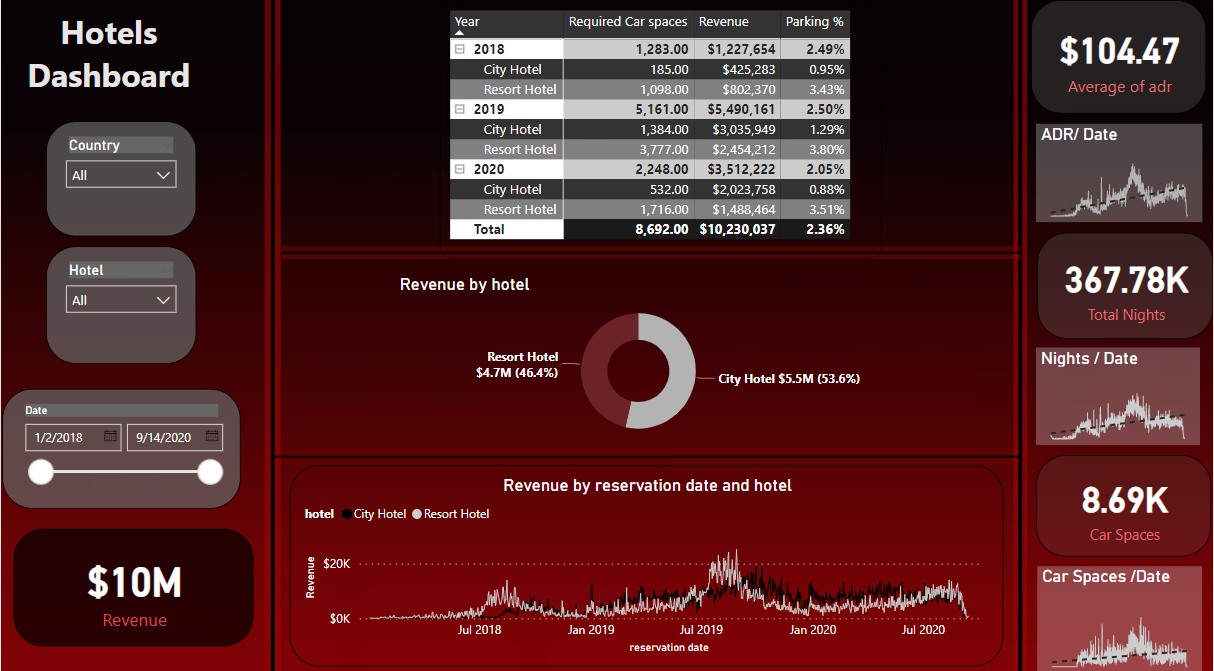

What the dashboard file says about the page in this screenshot:
{"tool":"powerbi","page":{"name":"Page 1","canvas":[1212,672],"ordinal":0},"visuals":[{"type":"card","fields":{"Values":["Sum(Query1.Revenue)"]},"box":[12.5,528.8,240,117.5],"z":0},{"type":"card","fields":{"Values":["Avg(Query1.adr)"]},"box":[1030,0,175,113.8],"z":1000},{"type":"card","fields":{"Values":["Query1.Measure"]},"box":[1036.2,232,176.2,106.2],"z":2000},{"type":"lineChart","fields":{"Category":["Query1.reservation_status_date"],"Y":["Sum(Query1.Revenue)"],"Series":["Query1.hotel"]},"box":[288.8,465,713.8,201.2],"z":3000},{"type":"donutChart","fields":{"Y":["Sum(Query1.Revenue)"],"Category":["Query1.hotel"]},"box":[393.8,273.8,487.5,175],"z":4000},{"type":"slicer","fields":{"Values":["Query1.hotel"]},"box":[45,246.2,150,117.5],"z":5000},{"type":"card","fields":{"Values":["Sum(Query1.required_car_parking_spaces)"]},"box":[1035,455.2,175,101.2],"z":6000},{"type":"lineChart","title":"ADR/ Date","fields":{"Category":["Query1.reservation_status_date"],"Y":["Sum(Query1.adr)"]},"box":[1035,123.5,166.2,98.8],"z":7000},{"type":"lineChart","title":"Nights / Date","fields":{"Category":["Query1.reservation_status_date"],"Y":["Query1.Measure"]},"box":[1035,348,163.8,97.5],"z":8000},{"type":"lineChart","title":"Car Spaces /Date","fields":{"Category":["Query1.reservation_status_date"],"Y":["Sum(Query1.required_car_parking_spaces)"]},"box":[1036.2,565.8,165,106.2],"z":9000},{"type":"slicer","fields":{"Values":["Query1.country"]},"box":[45,121.2,150,115],"z":10000},{"type":"slicer","fields":{"Values":["Query1.reservation_status_date"]},"box":[1.2,388.8,238.8,120],"z":11000},{"type":"textbox","box":[0,5.6,215.6,113.3],"z":12000},{"type":"pivotTable","fields":{"Rows":["Query1.reservation_status_date.Variation.Date Hierarchy.Year","Query1.hotel"],"Values":["Sum(Query1.required_car_parking_spaces)","Sum(Query1.Revenue)","Query1.Parking Percentage"]},"box":[438.8,0,442.5,258.8],"z":13000},{"type":"shape","box":[263.8,0,16.2,672.5],"z":14000},{"type":"shape","box":[1012.5,0,13.8,672.5],"z":15000},{"type":"shape","box":[280,246.2,740,12.5],"z":16000},{"type":"shape","box":[272.5,448.8,747.5,16.2],"z":17000}]}

Visuals, with their boxes in screenshot pixels (x1, y1, x2, y2), scaled from the page's 1212x672 canvas onto the 1214x671 screenshot:
card - Sum(Query1.Revenue): BBox(13, 528, 253, 645)
card - Avg(Query1.adr): BBox(1032, 0, 1207, 114)
card - Query1.Measure: BBox(1038, 232, 1213, 338)
lineChart - Query1.reservation_status_date x Sum(Query1.Revenue): BBox(289, 464, 1004, 665)
donutChart - Sum(Query1.Revenue) x Query1.hotel: BBox(394, 273, 883, 448)
slicer - Query1.hotel: BBox(45, 246, 195, 363)
card - Sum(Query1.required_car_parking_spaces): BBox(1037, 455, 1212, 556)
"ADR/ Date" lineChart: BBox(1037, 123, 1203, 222)
"Nights / Date" lineChart: BBox(1037, 347, 1201, 445)
"Car Spaces /Date" lineChart: BBox(1038, 565, 1203, 670)
slicer - Query1.country: BBox(45, 121, 195, 236)
slicer - Query1.reservation_status_date: BBox(1, 388, 240, 508)
textbox: BBox(0, 6, 216, 119)
pivotTable - Query1.reservation_status_date.Variation.Date Hierarchy.Year x Query1.hotel: BBox(440, 0, 883, 258)
shape: BBox(264, 0, 280, 670)
shape: BBox(1014, 0, 1028, 670)
shape: BBox(280, 246, 1022, 258)
shape: BBox(273, 448, 1022, 464)
